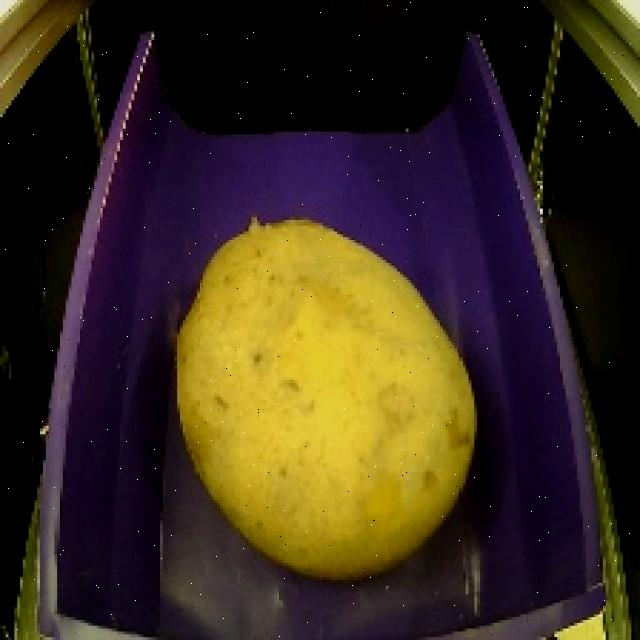full_potato: (164, 202, 490, 596)
